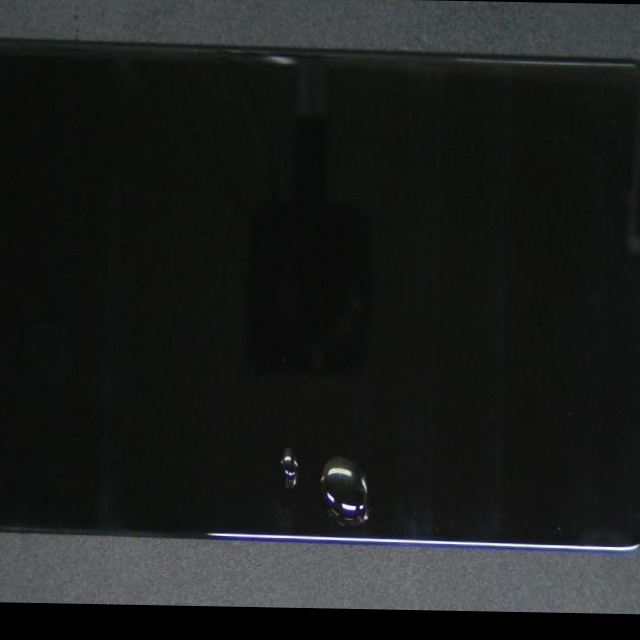oil: (145, 273, 591, 613), (98, 196, 458, 611)
